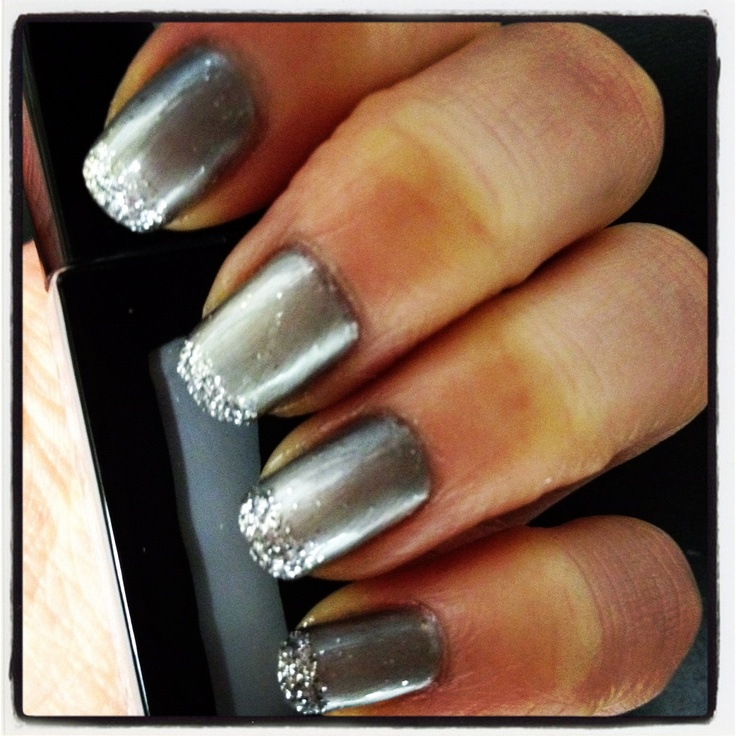finger: (147, 31, 695, 446), (251, 201, 736, 605), (70, 1, 489, 258), (252, 566, 717, 709)
